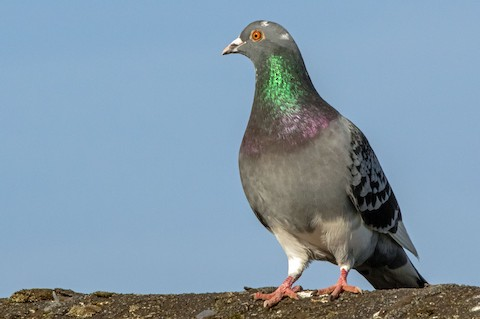pigeon: (211, 15, 437, 308)
